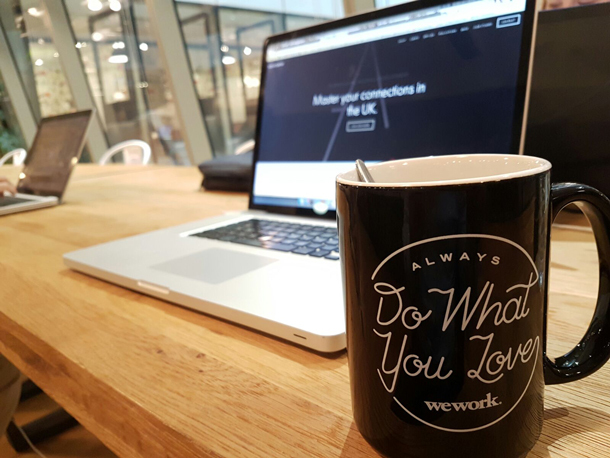wework: (420, 391, 500, 413)
